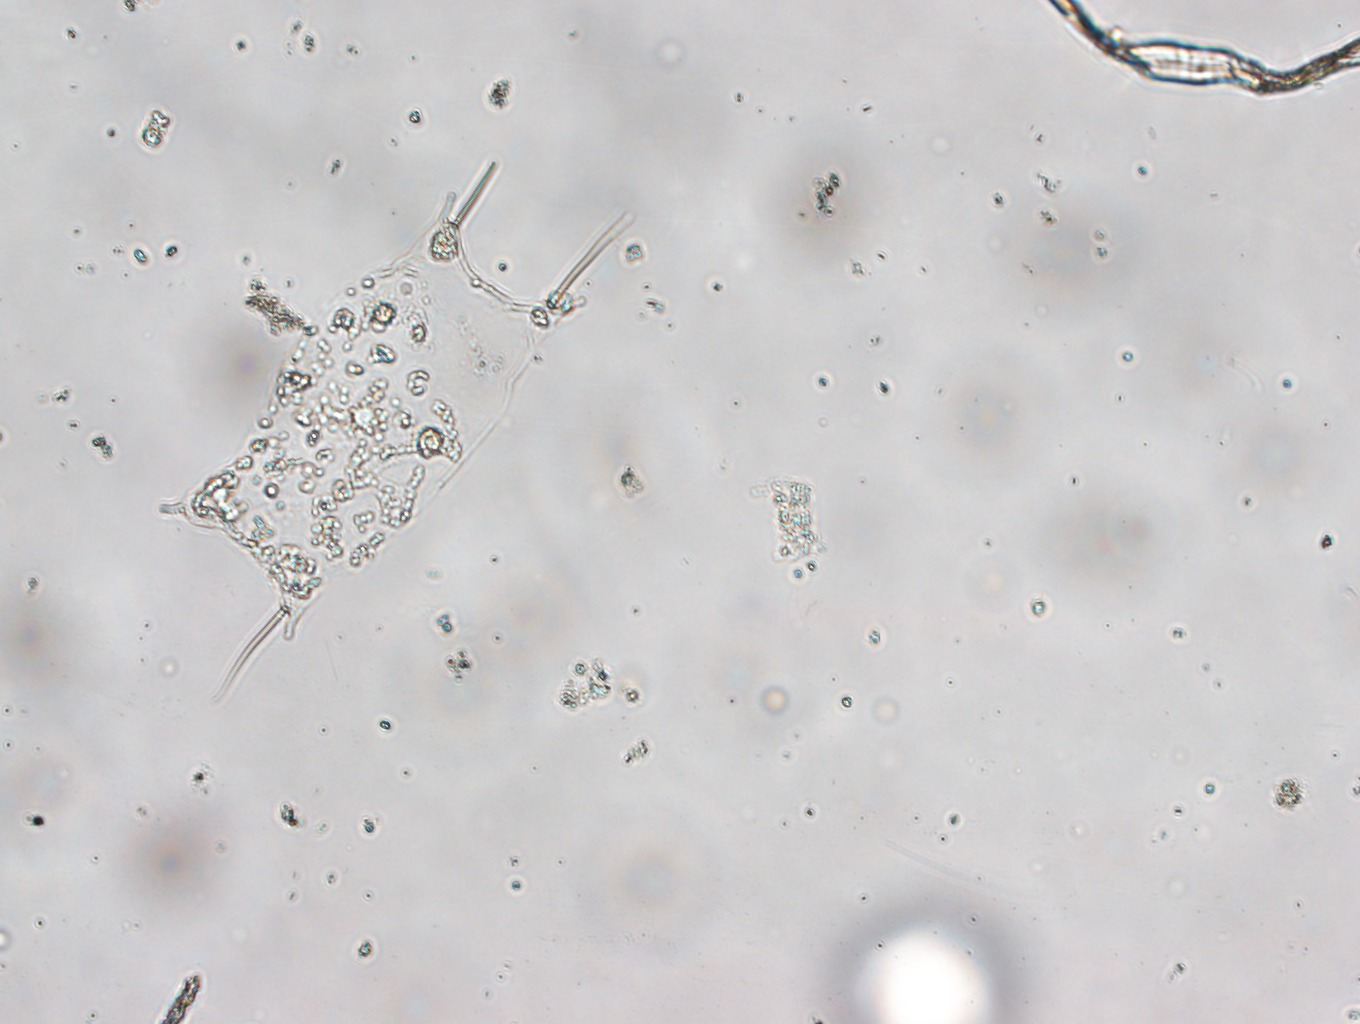biddulphia: (160, 165, 634, 683)
